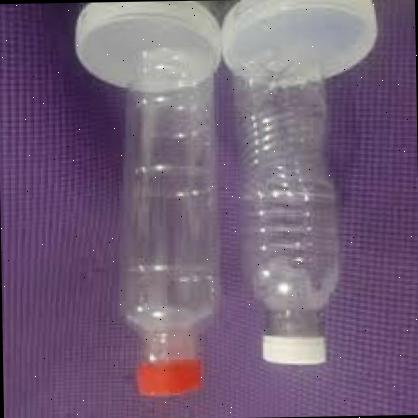bottle: (223, 34, 362, 371), (109, 31, 233, 408)
cap: (127, 358, 210, 402), (256, 330, 330, 368)
